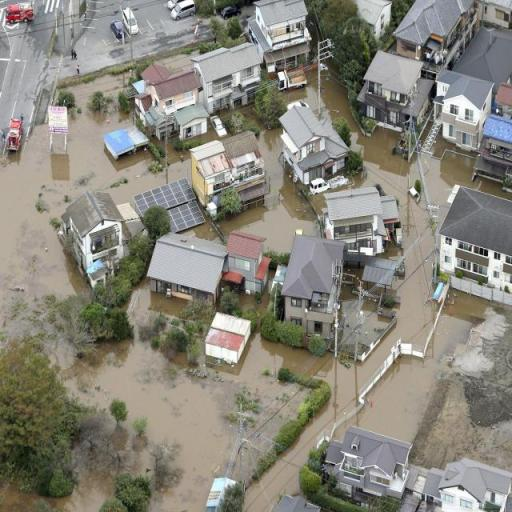flood: (46, 70, 512, 512), (0, 76, 191, 337), (337, 294, 491, 442), (183, 129, 321, 252), (281, 69, 318, 111), (161, 55, 190, 71)
house: (438, 175, 512, 288), (279, 228, 343, 356), (277, 98, 352, 188), (65, 184, 133, 278), (330, 420, 412, 496), (151, 227, 225, 311), (192, 130, 265, 208), (437, 62, 496, 154), (362, 48, 424, 134), (246, 0, 310, 72), (324, 188, 398, 250), (144, 63, 206, 137), (432, 454, 510, 512), (204, 40, 265, 113), (392, 2, 462, 60), (229, 224, 269, 294), (204, 311, 248, 370), (352, 0, 398, 42), (485, 111, 512, 170), (206, 473, 235, 512), (270, 494, 321, 512), (481, 0, 511, 30)
